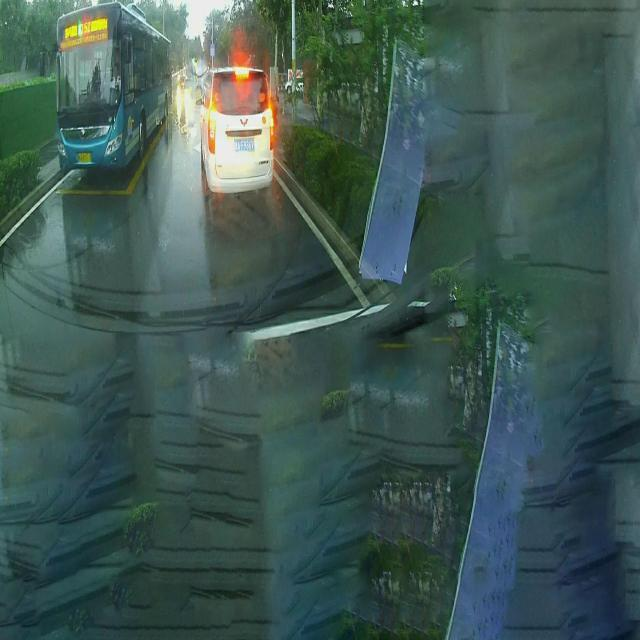car: (198, 66, 273, 202)
